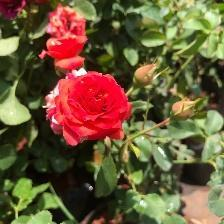rose: (53, 71, 133, 149)
